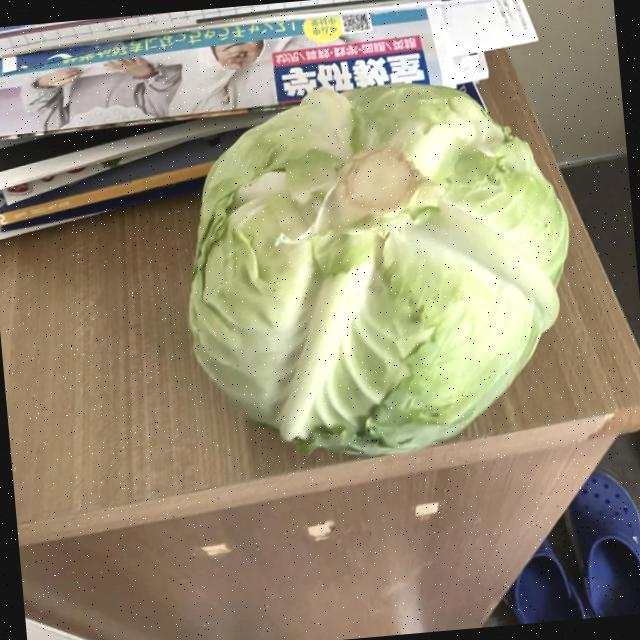cabbage: (163, 66, 591, 481)
